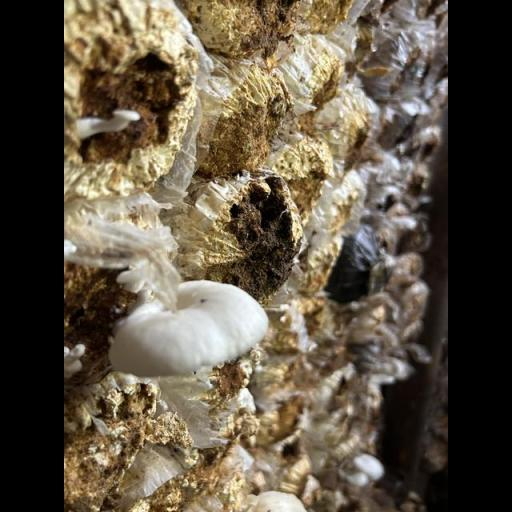White Oyster Mushroom: (111, 280, 267, 378)
